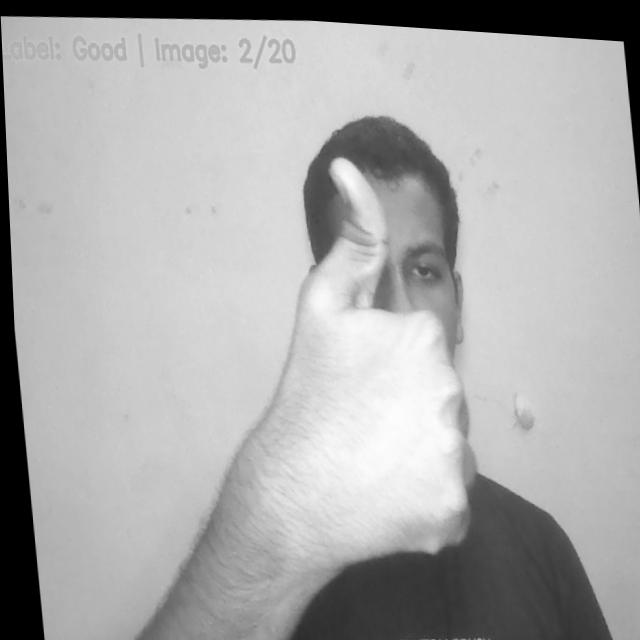Good: (249, 142, 481, 566)
